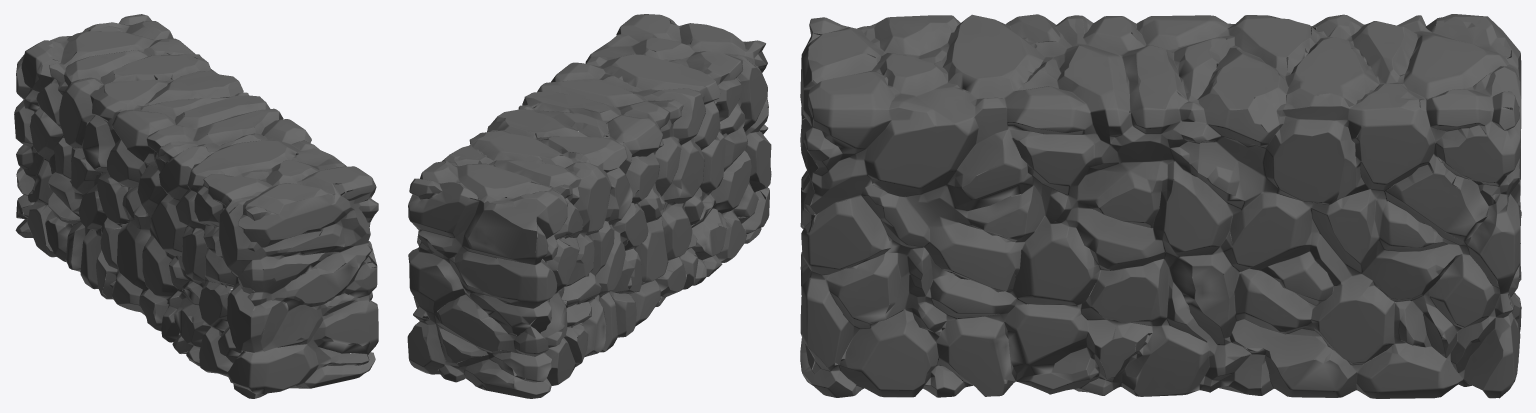
File: Rockwall3.fbx
3 renders of one model, left to right at view 1: azimuth 30°, elevation 25°; view 2: azimuth 150°, elevation 25°; view 3: azimuth 270°, elevation 25°, orthographic. The views are drawn at different scales.
Parts seen in each view (by area): view 1: Cube.001; view 2: Cube.001; view 3: Cube.001.
Boxes of the visible parts, bbox=[...] form: Cube.001: bbox=[14, 14, 378, 398]; Cube.001: bbox=[407, 14, 771, 398]; Cube.001: bbox=[800, 14, 1521, 398].
Bounding box in the file's own units: 2134 × 2836 × 6155.
Materials: 1 (1 with a texture image).
